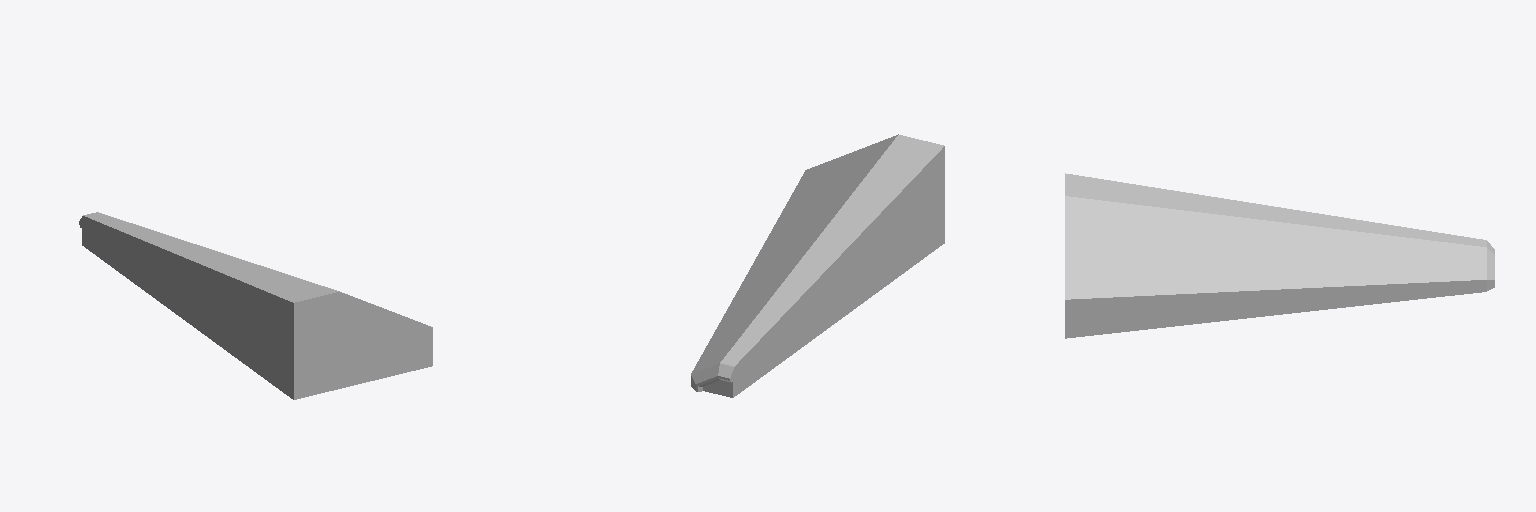
The model's file is Spacestation_Structure_Fuselage_Long_Angled_Edge_Normal.obj.
The picture shows the model from 3 angles: view 1: azimuth 30°, elevation 25°; view 2: azimuth 150°, elevation 25°; view 3: azimuth 270°, elevation 25°; orthographic projection.
Visible parts, largest first — view 1: object2; view 2: object2; view 3: object2.
Boxes of the visible parts, x1,y1,x2,y2 form: object2: [79, 212, 432, 399]; object2: [691, 134, 944, 395]; object2: [1065, 173, 1494, 338].
Size of the model in its own units: 1.5 by 1 by 4.